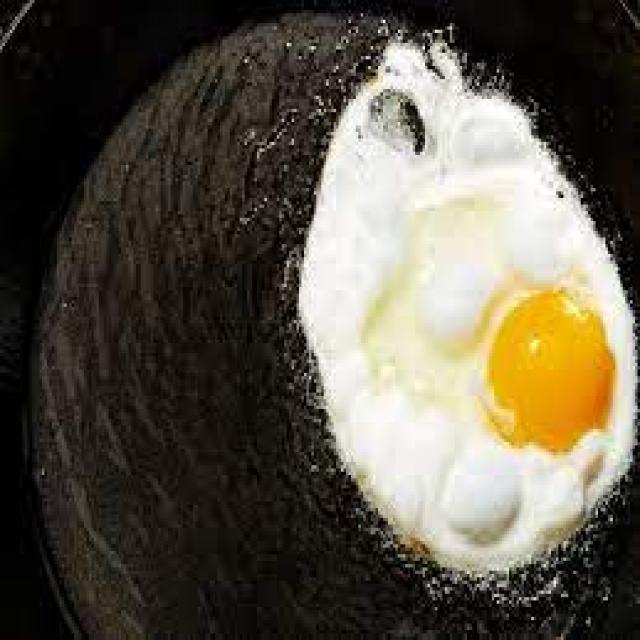Egg: (299, 43, 634, 573)
